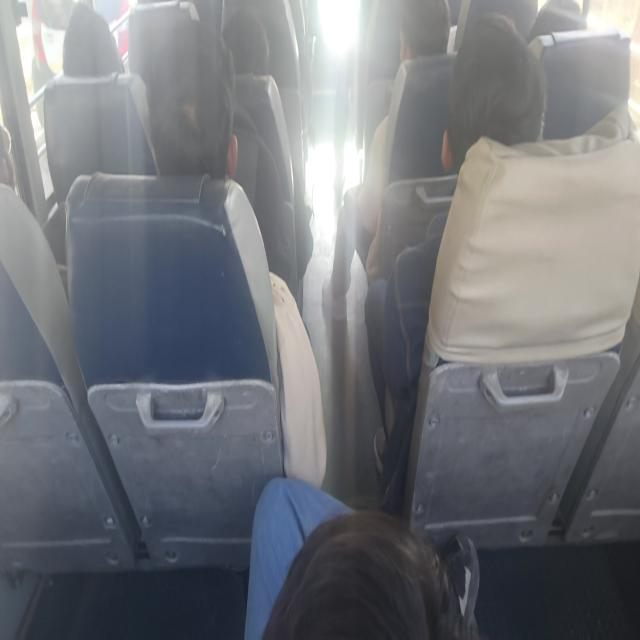person: (129, 10, 327, 488), (364, 11, 547, 498), (323, 0, 455, 492), (244, 476, 479, 638), (355, 0, 452, 271), (131, 17, 239, 178), (43, 2, 126, 203), (60, 2, 124, 77)
